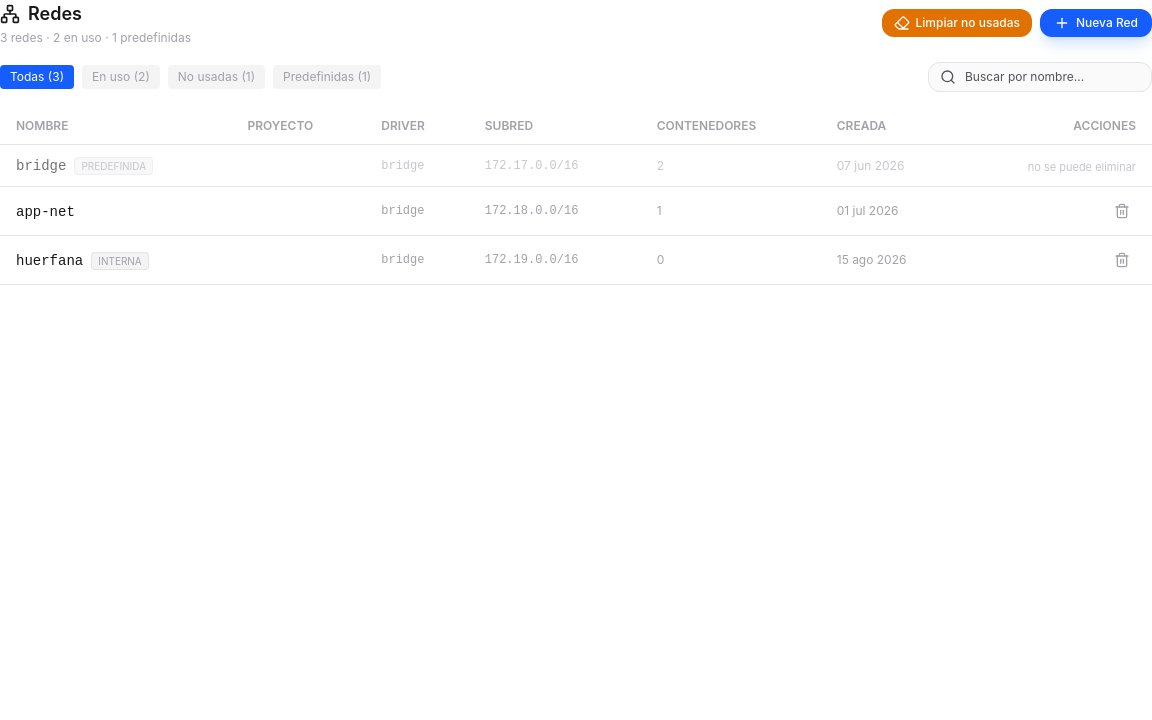
Test: NetworksView › muestra el error del daemon al intentar borrar una predefinida
Click the button named "Eliminar red huerfana" at coordinates (1122, 260), box x1=1108 y1=246 x2=1136 y2=274
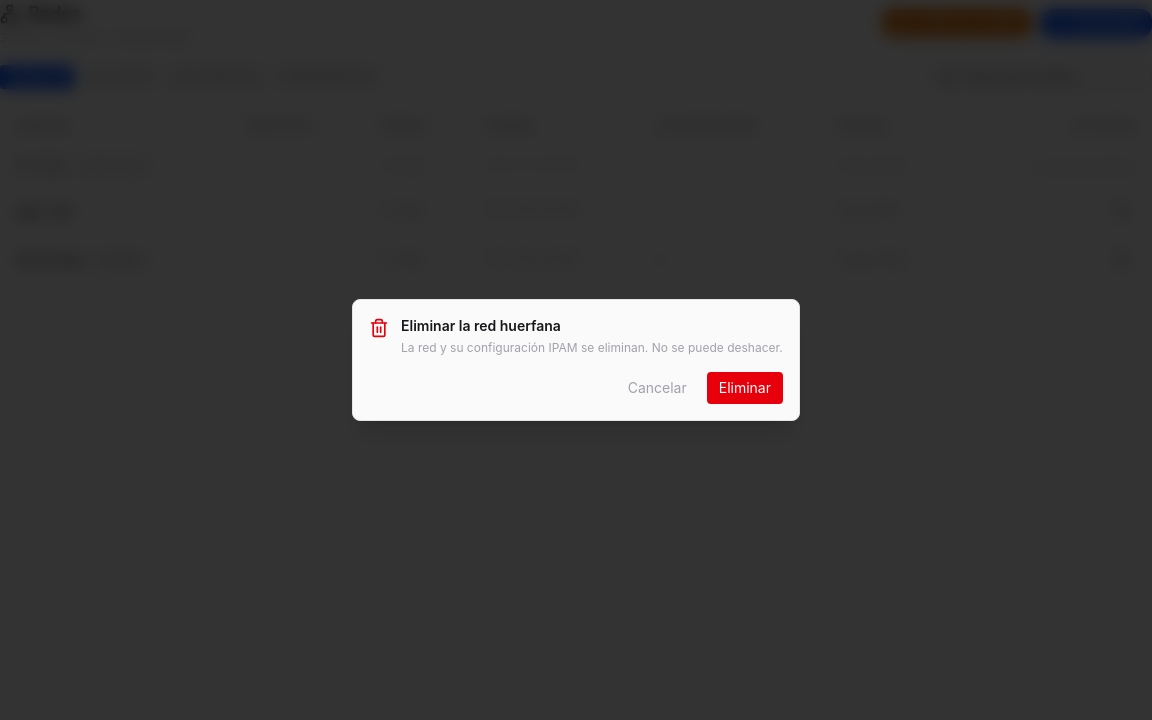
Click the button "Eliminar" at coordinates (745, 388), box x1=707 y1=372 x2=783 y2=404
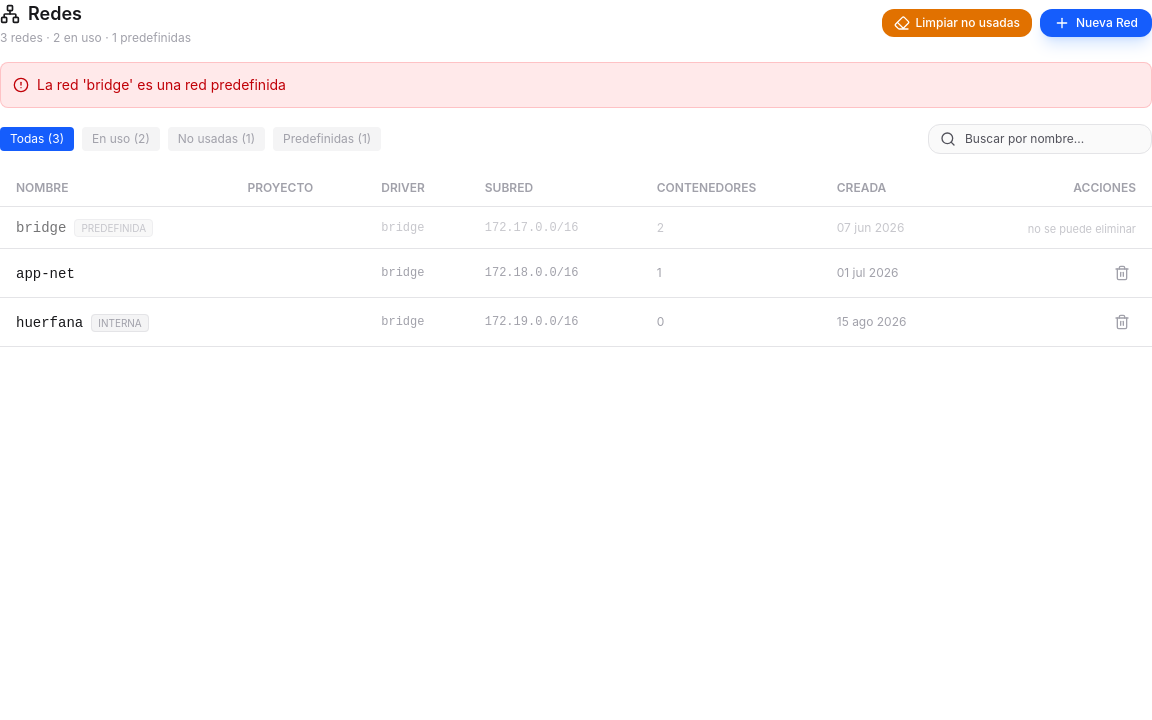
Result: the message shows "predefinida" at x1=37 y1=76 x2=286 y2=93
